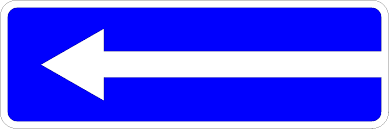One-Way Traffic: (6, 6, 383, 123)
